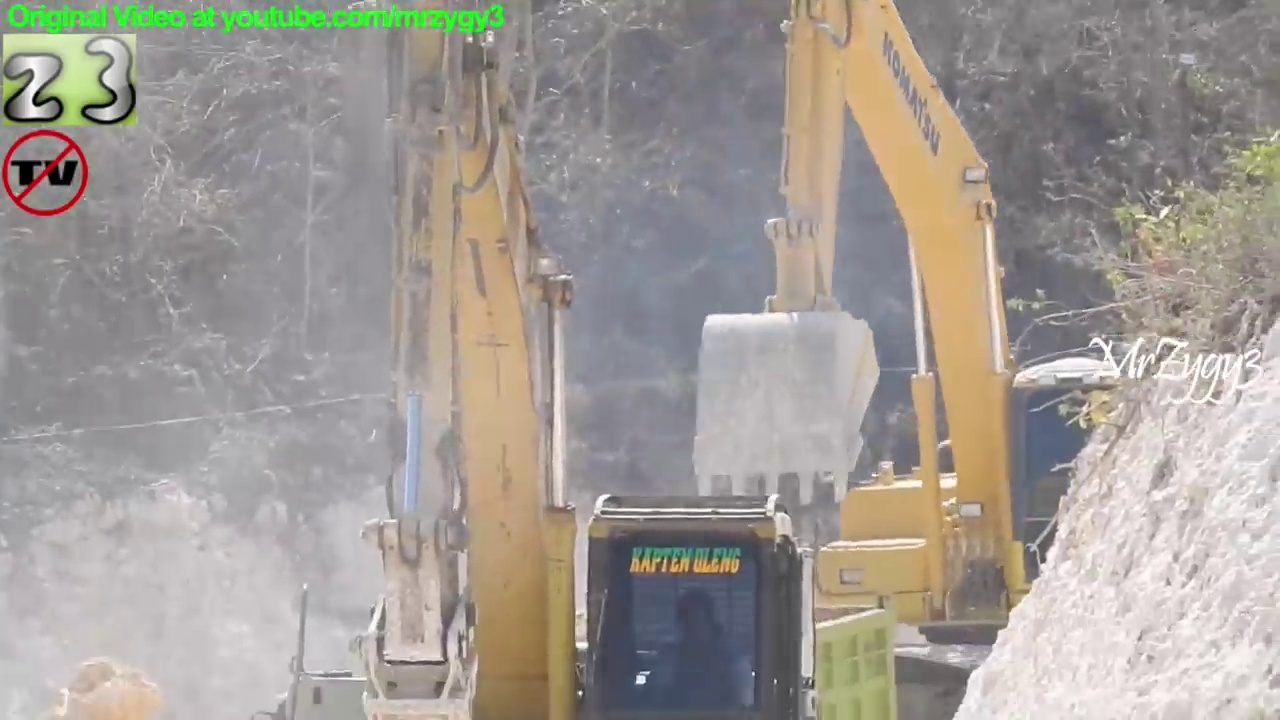excavator: (329, 1, 829, 720), (686, 1, 1175, 720)
truck: (340, 586, 906, 720)
